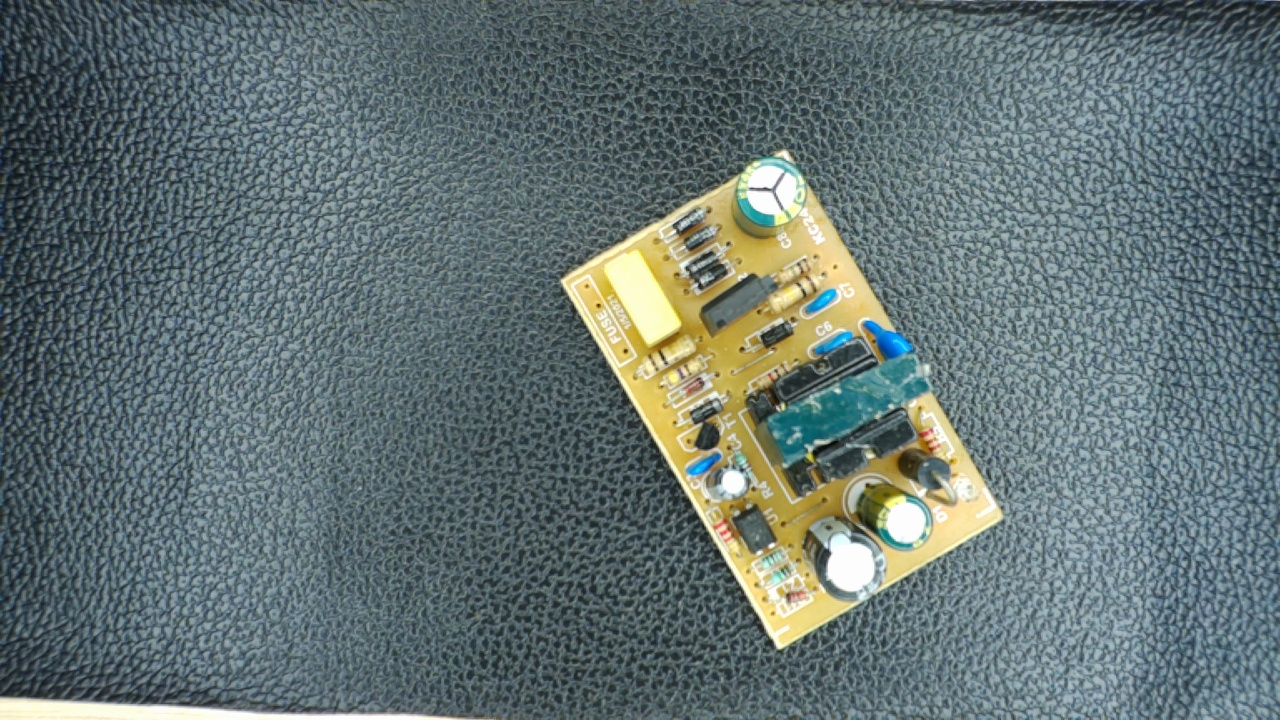hv_capacitor: (732, 155, 809, 239)
mov: (861, 315, 914, 366)
optocoupler: (725, 497, 782, 557)
